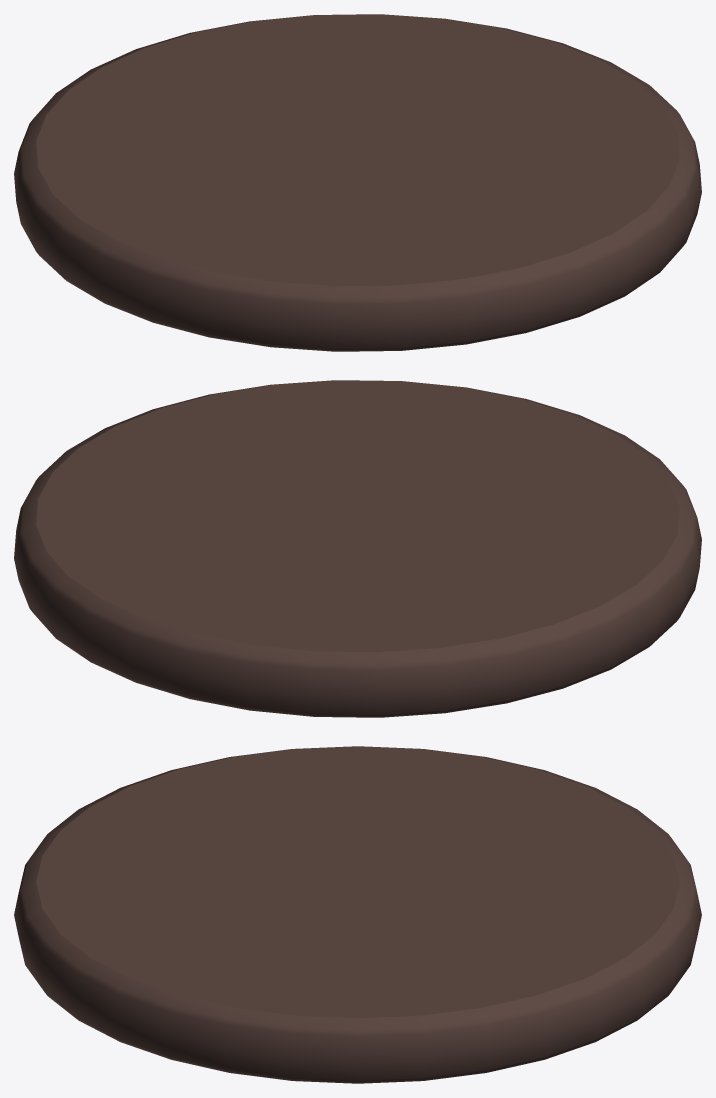
The model's file is Burgermeat_GEO.fbx.
The picture shows the model from 3 angles, top to bottom: view 1: azimuth 30°, elevation 25°; view 2: azimuth 150°, elevation 25°; view 3: azimuth 270°, elevation 25°; orthographic projection.
Parts seen in each view (by area): view 1: Burgermeat_GEO; view 2: Burgermeat_GEO; view 3: Burgermeat_GEO.
Boxes of the visible parts, <box> form: Burgermeat_GEO: <box>14,14,701,351</box>; Burgermeat_GEO: <box>14,380,701,717</box>; Burgermeat_GEO: <box>14,746,701,1083</box>.
Size of the model in its own units: 170 by 17.77 by 170.
